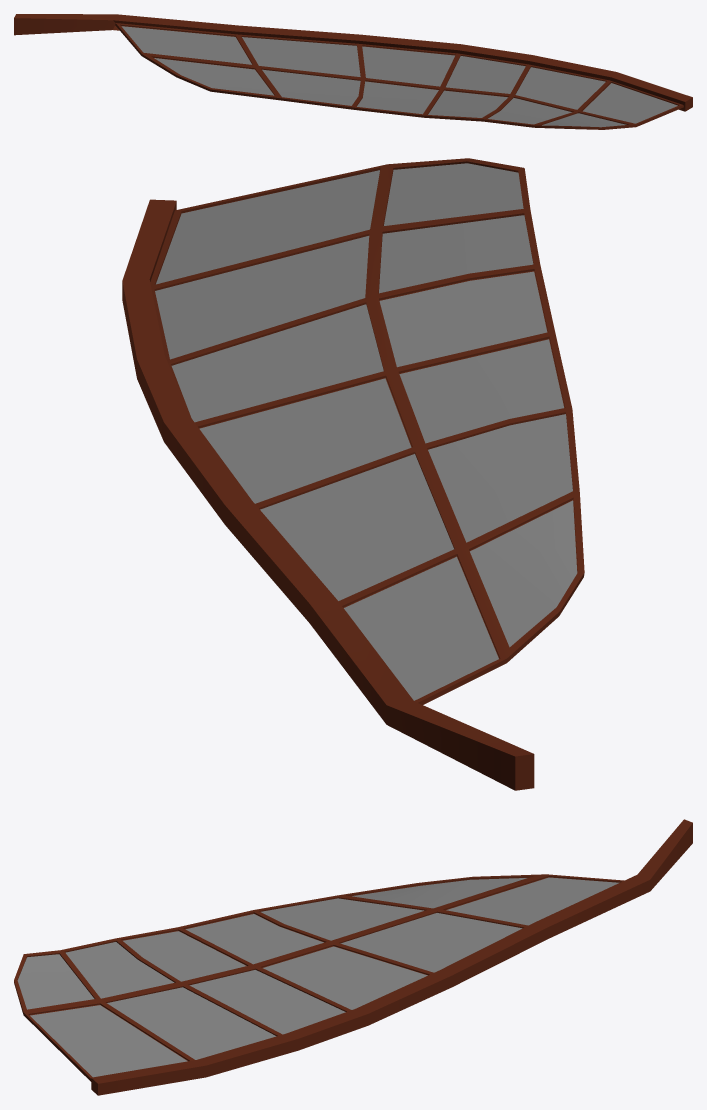
The model's file is ST_Wing_06.fbx.
The picture shows the model from 3 angles, top to bottom: view 1: azimuth 30°, elevation 25°; view 2: azimuth 150°, elevation 25°; view 3: azimuth 270°, elevation 25°; orthographic projection. The views are drawn at different scales.
Visible parts, largest first — view 1: _Wing_06; view 2: _Wing_06; view 3: _Wing_06.
Part boxes in pixels (x1,y1,x2,y2): _Wing_06: (14, 14, 692, 129); _Wing_06: (122, 158, 584, 790); _Wing_06: (14, 819, 692, 1095).
Size of the model in its own units: 3943 by 357 by 4422.
